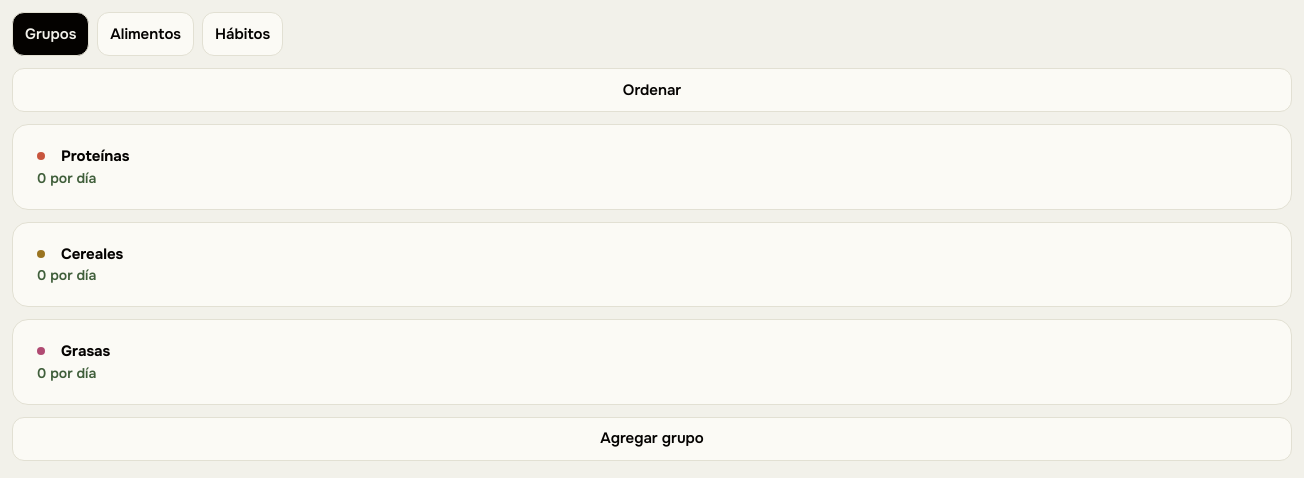
carga grupos, alimentos y hábitos
This screenshot has width=1304, height=478.
Check: the text "Proteínas" is shown, box [37,146,130,166]
Click the button "Alimentos" at (146, 34), box [97,12,194,56]
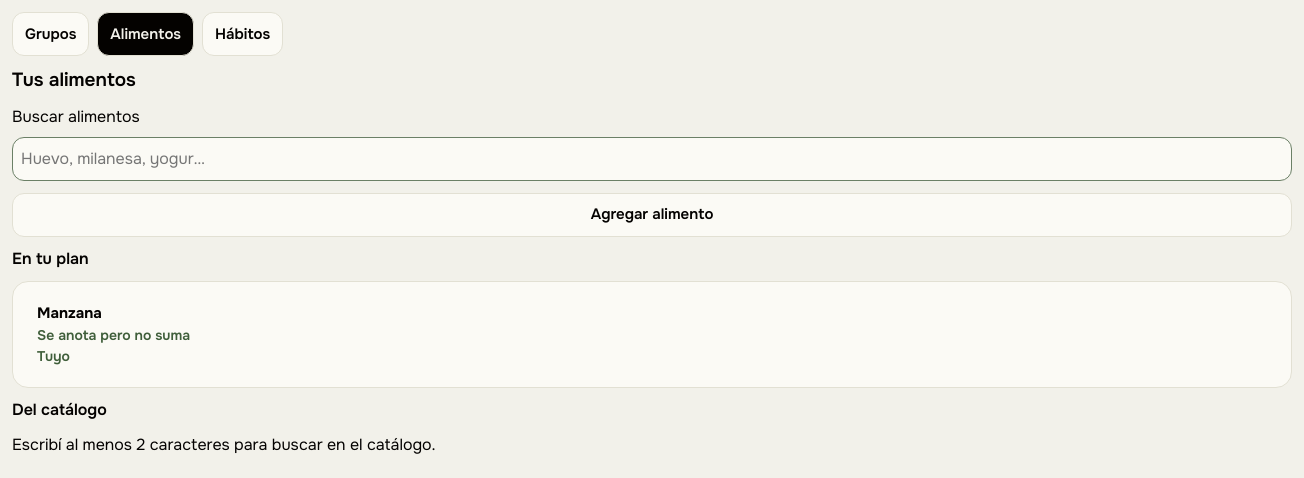
Check: the text "Manzana" is shown, box [37,304,102,324]
Check: the text "Se anota pero no suma" is shown, box [37,326,190,344]
Click the button "Hábitos" at (243, 34), box [202,12,283,56]
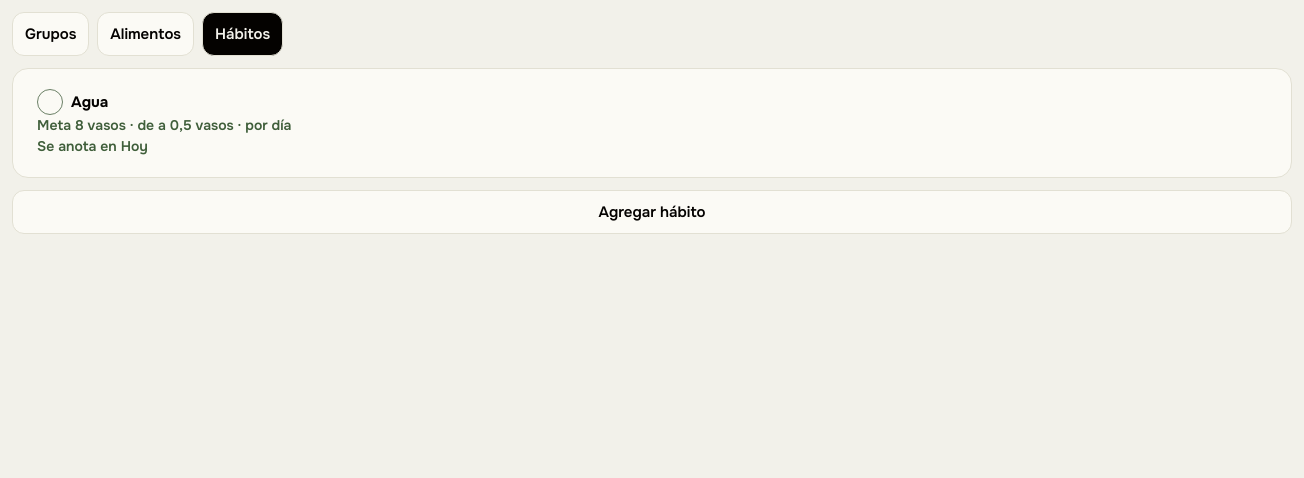
Check: the text "Agua" is shown, box [37,89,108,115]
